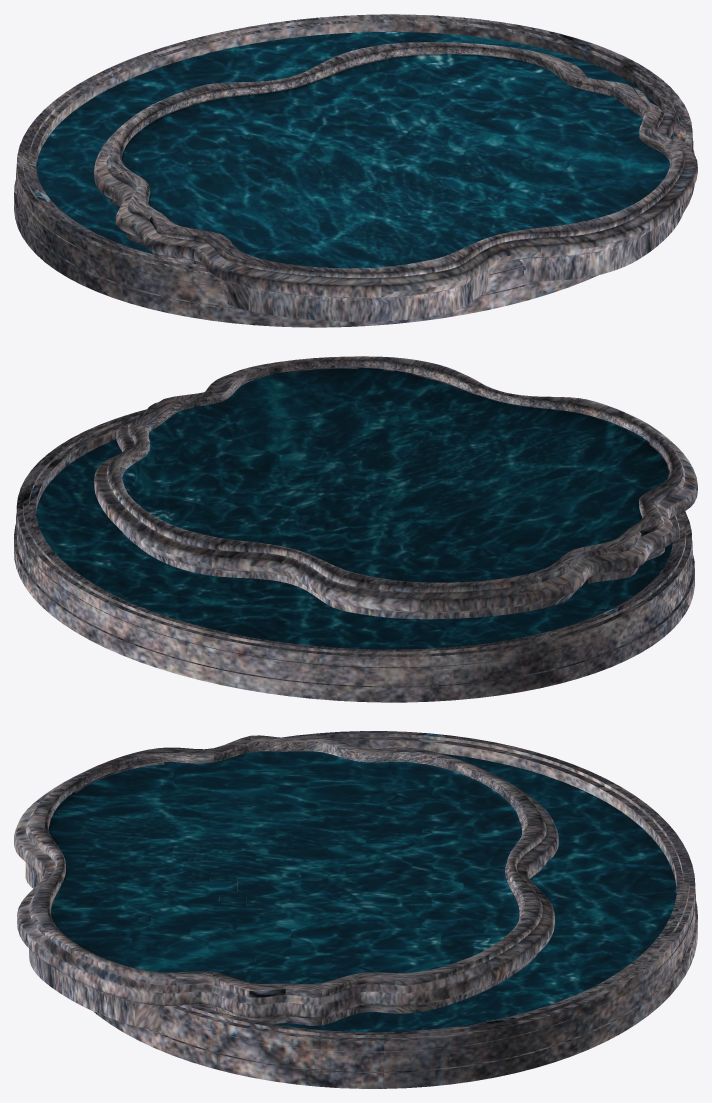
The model's file is Laguna.obj.
3 views of the same model, one above another, from view 1: azimuth 30°, elevation 25°; view 2: azimuth 150°, elevation 25°; view 3: azimuth 270°, elevation 25° (orthographic). The views are drawn at different scales.
Visible parts, largest first — view 1: Agua1, pool, Agua2; view 2: Agua1, pool, Agua2; view 3: Agua1, pool, Agua2.
Boxes of the visible parts, <box> form: Agua1: <box>122,54,669,268</box>; pool: <box>14,14,697,327</box>; Agua2: <box>36,32,673,254</box>; Agua1: <box>122,367,668,582</box>; pool: <box>14,356,697,702</box>; Agua2: <box>36,436,672,649</box>; Agua1: <box>48,751,521,983</box>; pool: <box>14,731,697,1088</box>; Agua2: <box>274,753,676,1032</box>.
Size of the model in its own units: 2.66 by 0.2796 by 2.46.
2 materials, 2 textured.
